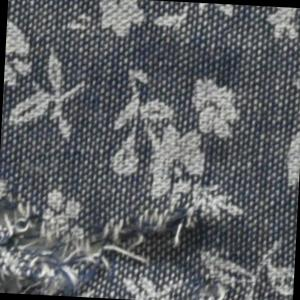Damage: (1, 170, 208, 300), (196, 255, 294, 300)
